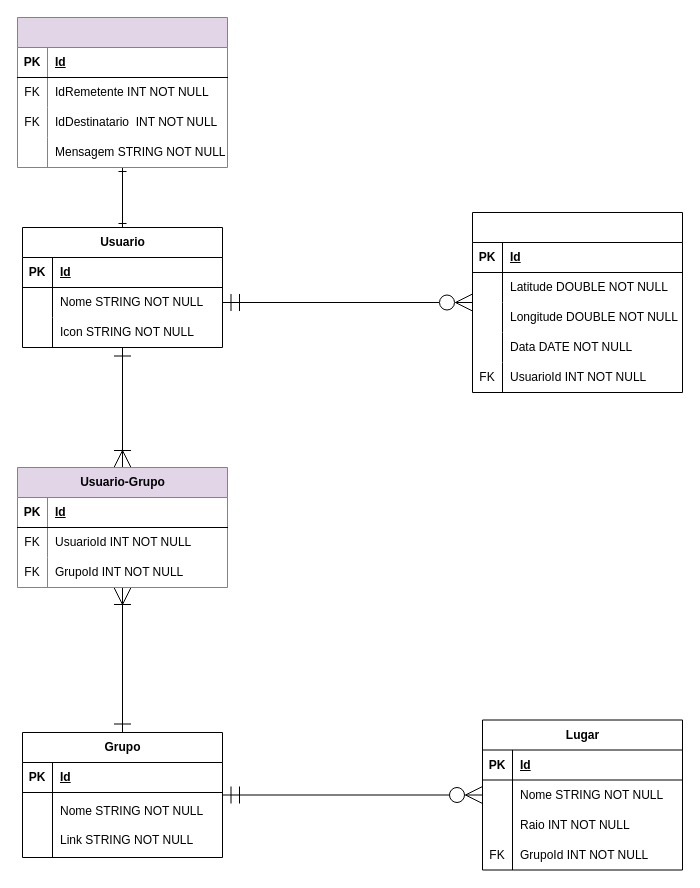
Image size: 700x888. Some labels were removed from this diagram. The shapes that lost their labels are listed below. From the top down, each one's box as (x1, y1, x2, y2) in pixels, then its label:
(16, 16, 228, 168): Notificacao
(472, 212, 682, 392): Localizacao
